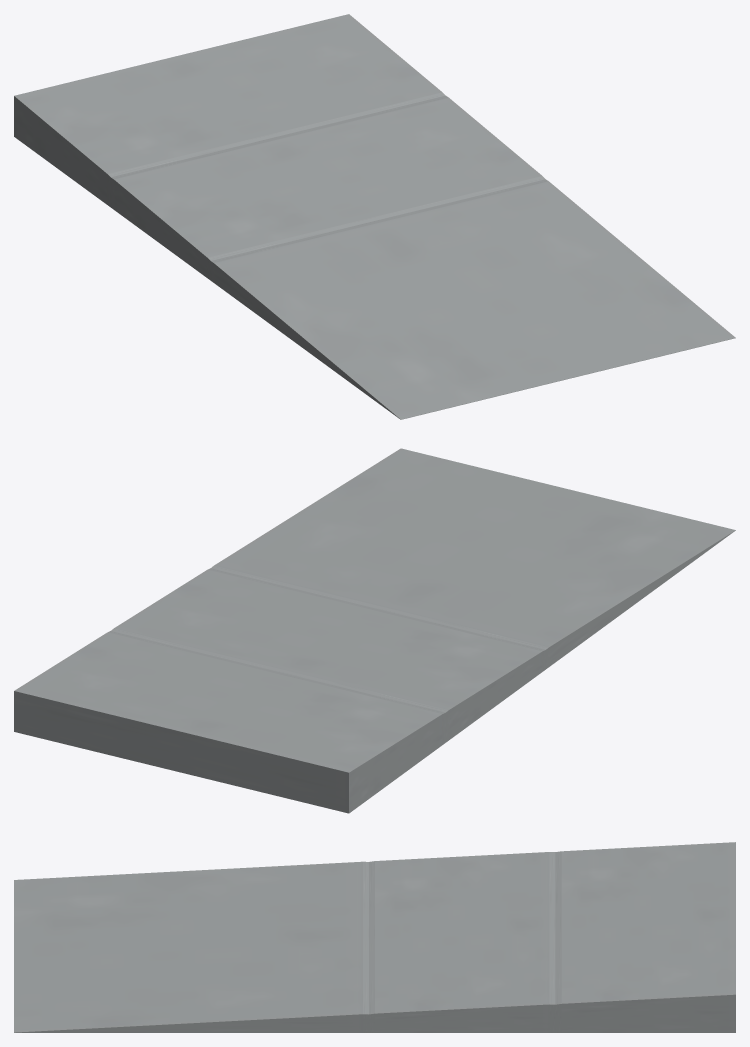
The model's file is showcase_curb_ramp.glb.
The picture shows the model from 3 angles, top to bottom: view 1: azimuth 30°, elevation 25°; view 2: azimuth 150°, elevation 25°; view 3: azimuth 270°, elevation 25°; orthographic projection. The views are drawn at different scales.
Visible parts, largest first — view 1: outdoor_showcase_curb_ramp; view 2: outdoor_showcase_curb_ramp; view 3: outdoor_showcase_curb_ramp.
Part boxes in pixels (x1,y1,x2,y2): outdoor_showcase_curb_ramp: (14,14,735,419); outdoor_showcase_curb_ramp: (14,448,735,813); outdoor_showcase_curb_ramp: (14,842,735,1032).
Bounding box in the file's own units: 1.2 × 0.14 × 2.4.
Materials: 1 (1 with a texture image).
